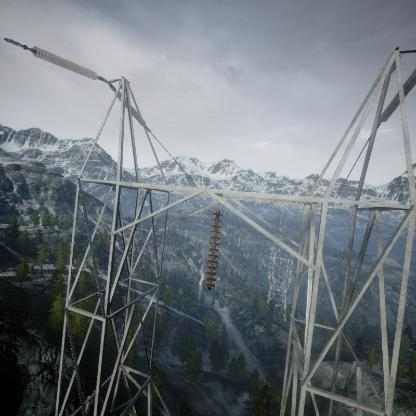insulator: (4, 34, 105, 84), (380, 66, 416, 123), (205, 207, 223, 291)
tower: (265, 241, 297, 323)
